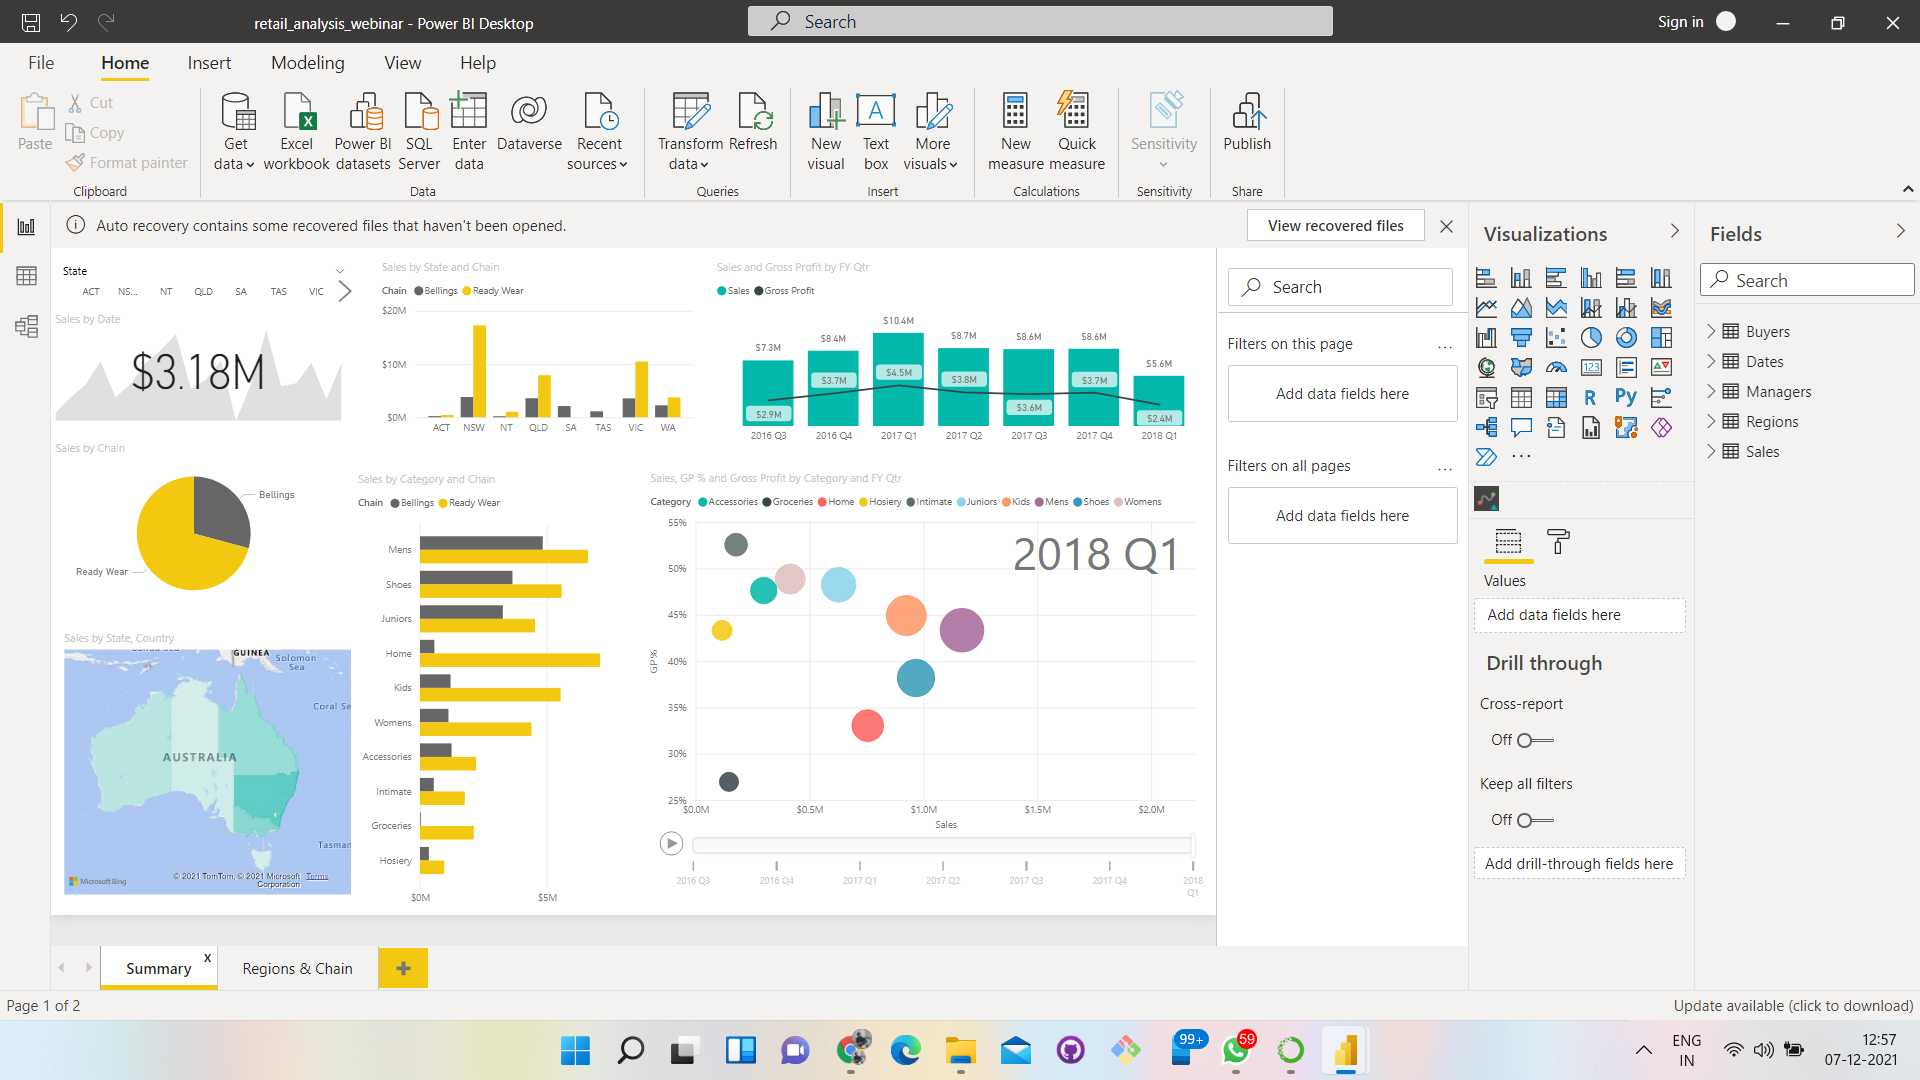

This screenshot's page, from the dashboard's own definition file:
{"tool":"powerbi","page":{"name":"Summary","canvas":[1280,720],"ordinal":0},"visuals":[{"type":"kpi","fields":{"Indicator":["Sum(Sales.Sales)"],"TrendLine":["Dates.Date"]},"box":[0,58,324.1,125.4],"z":0},{"type":"clusteredColumnChart","fields":{"Y":["Sum(Sales.Sales)"],"Series":["Sales.Chain"],"Category":["Regions.State"]},"box":[359,0,353,202.1],"z":1000},{"type":"lineClusteredColumnComboChart","fields":{"Category":["Dates.FY Qtr"],"Y":["Sum(Sales.Sales)"],"Y2":["Sum(Sales.Gross Profit)"]},"box":[726.6,0,553.4,211.5],"z":2000},{"type":"pieChart","fields":{"Category":["Sales.Chain"],"Y":["Sum(Sales.Sales)"]},"box":[0,199.5,313.8,189.3],"z":3000},{"type":"filledMap","fields":{"Category":["Regions.State, Country"]},"box":[10.2,408.2,325.5,295.7],"z":4000},{"type":"clusteredBarChart","fields":{"Category":["Sales.Category"],"Y":["Sum(Sales.Sales)"],"Series":["Sales.Chain"]},"box":[331.7,233.7,312.1,485.2],"z":5000},{"type":"scatterChart","fields":{"X":["Sum(Sales.Sales)"],"Series":["Sales.Category"],"Y":["Sales.GP %"],"Size":["Sum(Sales.Gross Profit)"],"Play":["Dates.FY Qtr"]},"box":[654.1,232,625.1,481],"z":6000},{"type":"slicer","fields":{"Values":["Regions.State"]},"box":[0,0,335.1,49.5],"z":7000}]}

Visuals, with their boxes on the page's 1280x720 design canvas (x1, y1, x2, y2). These are canvas units, not pixel positions in the 1920x1080 screenshot, which may show the page scaled, cropped or inside an application window:
kpi - Sum(Sales.Sales) x Dates.Date: 0/58/324/183
clusteredColumnChart - Sum(Sales.Sales) x Sales.Chain: 359/0/712/202
lineClusteredColumnComboChart - Dates.FY Qtr x Sum(Sales.Sales): 727/0/1280/212
pieChart - Sales.Chain x Sum(Sales.Sales): 0/200/314/389
filledMap - Regions.State, Country: 10/408/336/704
clusteredBarChart - Sales.Category x Sum(Sales.Sales): 332/234/644/719
scatterChart - Sum(Sales.Sales) x Sales.Category: 654/232/1279/713
slicer - Regions.State: 0/0/335/50
